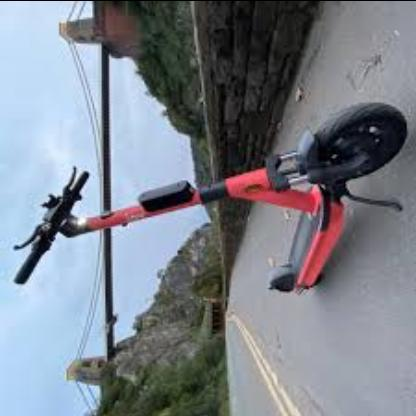bike: (16, 101, 410, 296)
